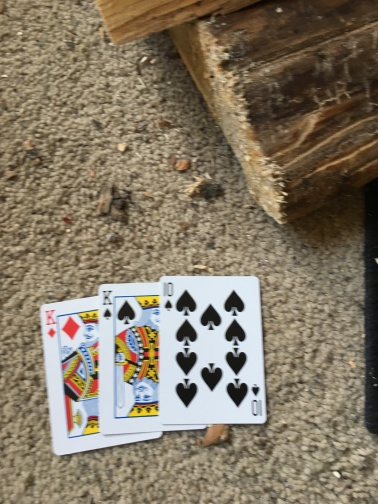king: (40, 296, 105, 454), (100, 281, 167, 433)
ten: (160, 272, 267, 425)
